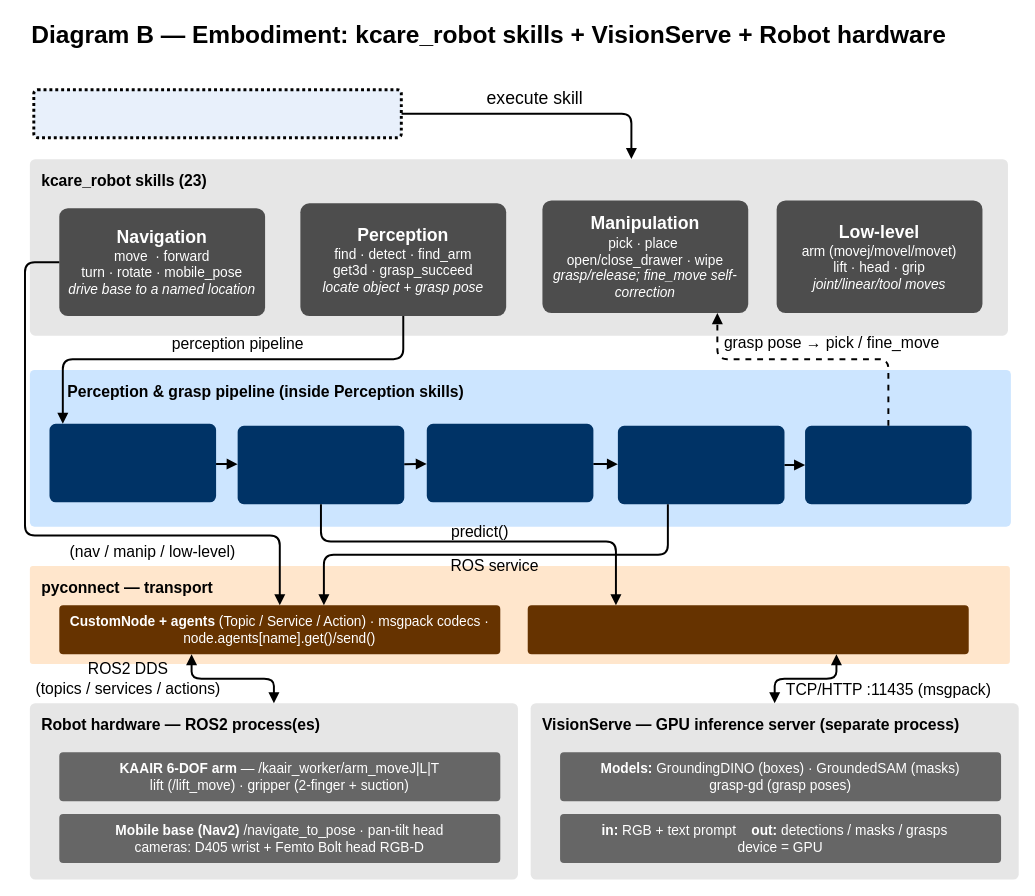
This 1035x896 diagram has some shape labels left out. The shapes that lost their labels are listed below. From the top down, each one's centre as x and y in pixels, then its label:
(217,113): Robot Agent Brain ( See Diagram A )
(132,462): fetch_camera_data head / wrist RGB-D frame
(320,464): VisionServe.predict grounding-dino / grounded-sam / grasp-gd
(509,462): select_target_object / select_target_grasp
(700,464): get3d /create_object_marker → 3D in base frame
(888,464): result ins{ loc_3d, grasppose[x,y,z,rz,w], box, score }
(747,629): VisionServe client · _vs_client().predict(model, rgb, prompt) · TCP/HTTP :11435
